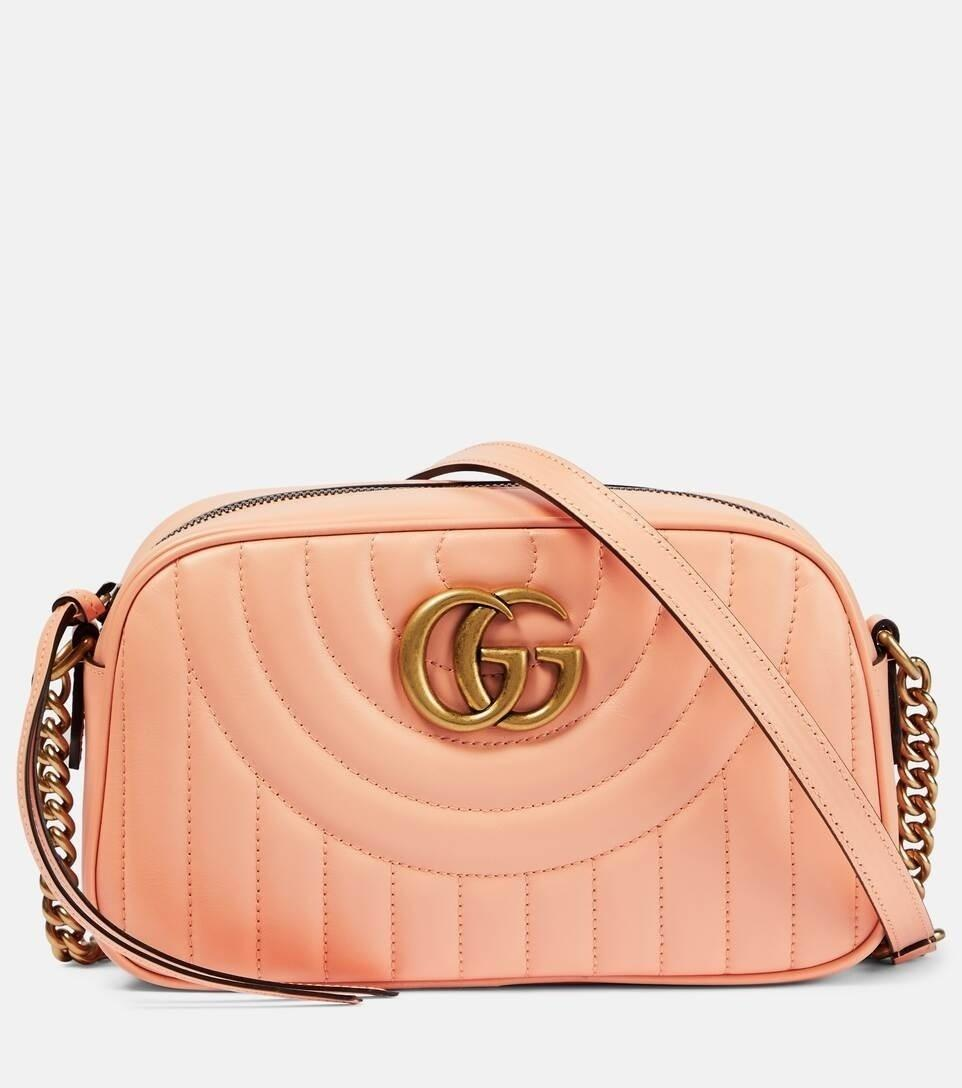GUCCI: (395, 587, 586, 733)
